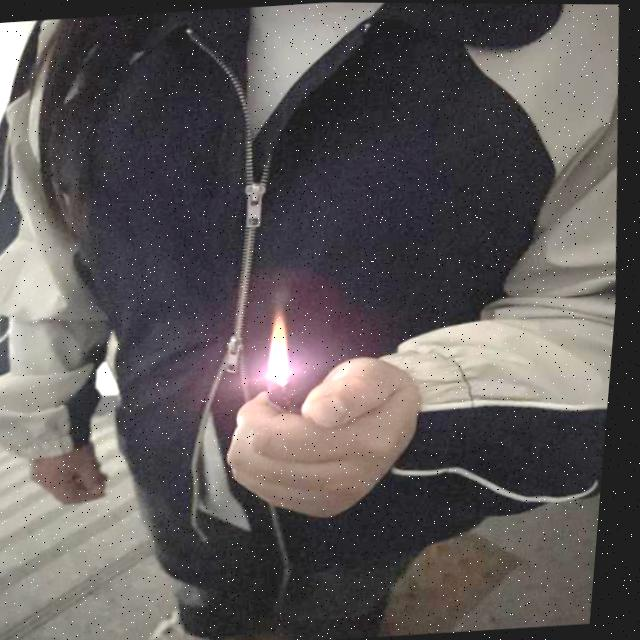Fire: (267, 304, 300, 380)
